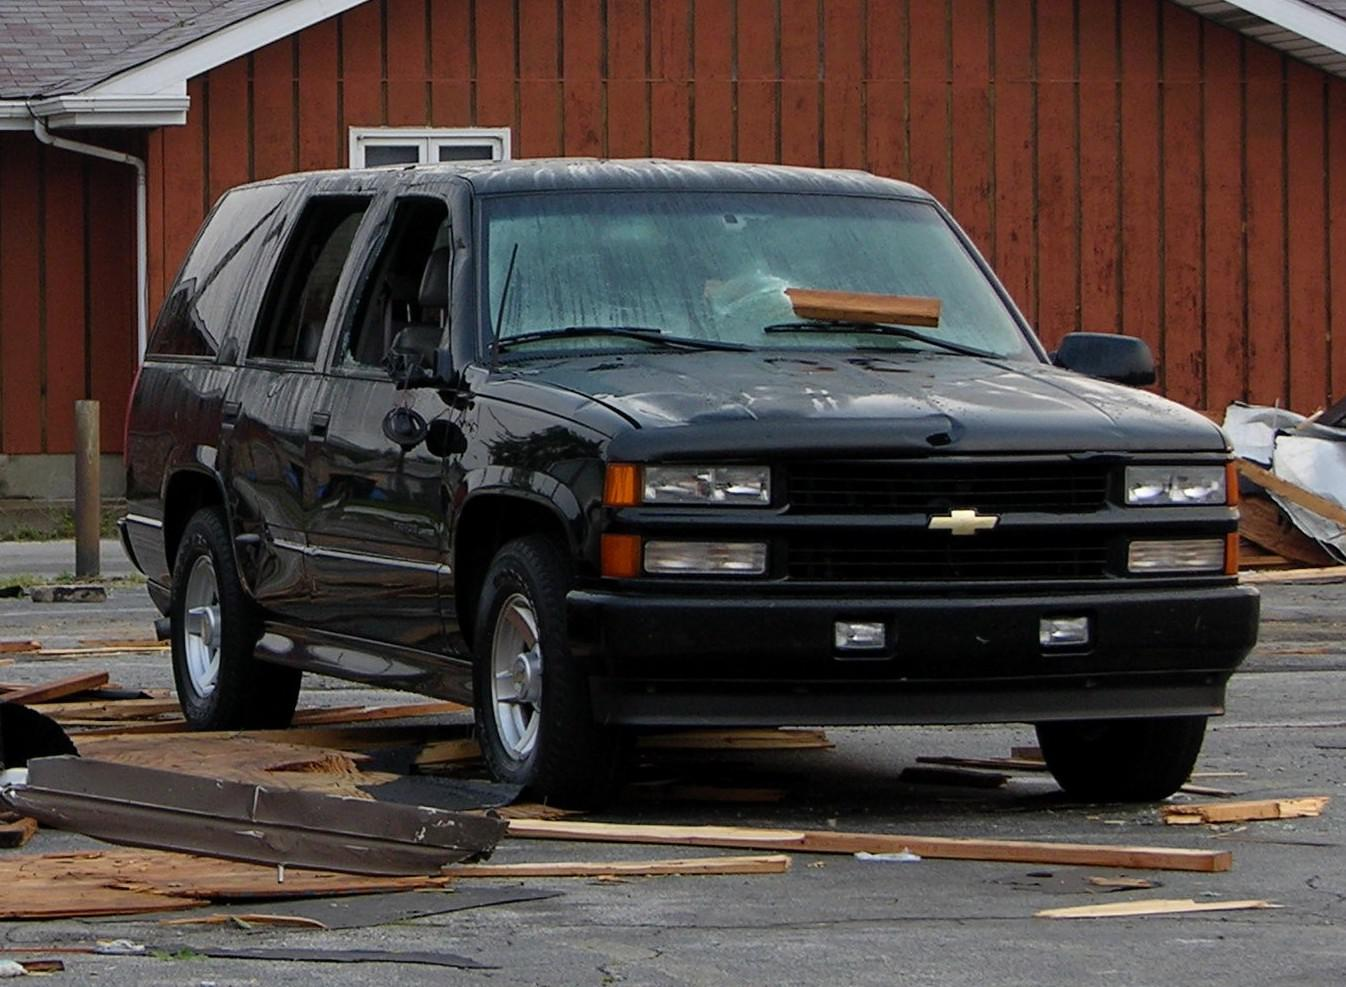Front-Windscreen-Damage: (448, 173, 977, 353)
